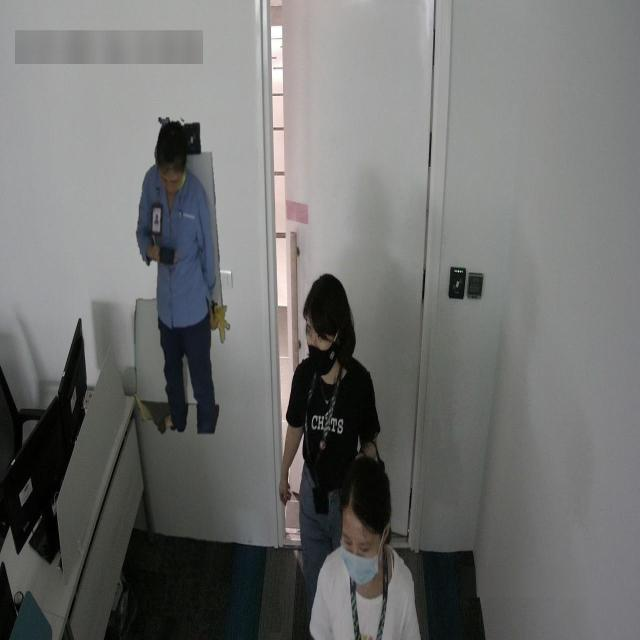hairnet: (158, 160, 188, 198)
